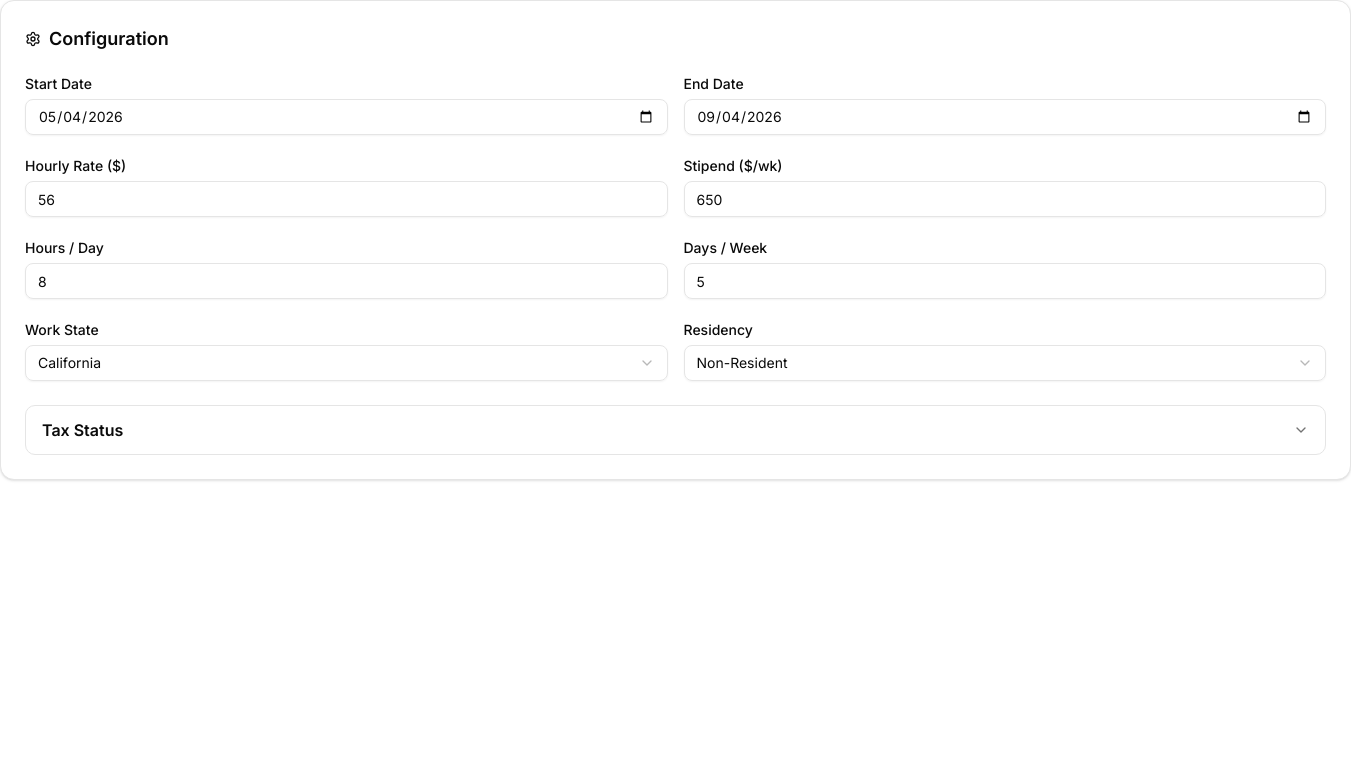
Test: PayrollConfigurationCard › sets placeholders on numeric fields and exposes select comboboxes
The width and height of the screenshot is (1366, 768).
Expected: the number of dropdowns is 2, [25, 345, 668, 381]; [684, 345, 1326, 381]
Click the button "Tax Status" at (83, 430), box [26, 406, 1325, 454]
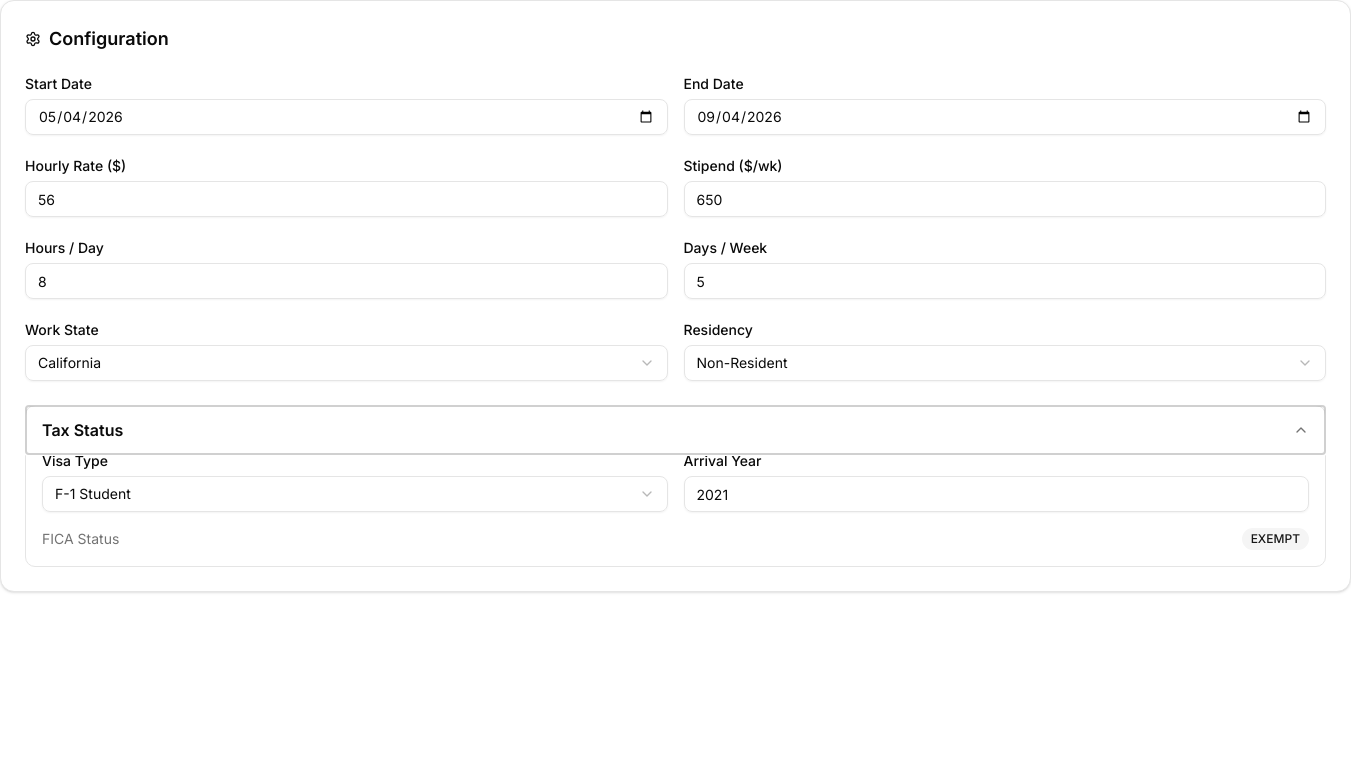
Now the number of dropdowns is 3, box [25, 345, 668, 381]; [684, 345, 1326, 381]; [42, 476, 668, 512]
